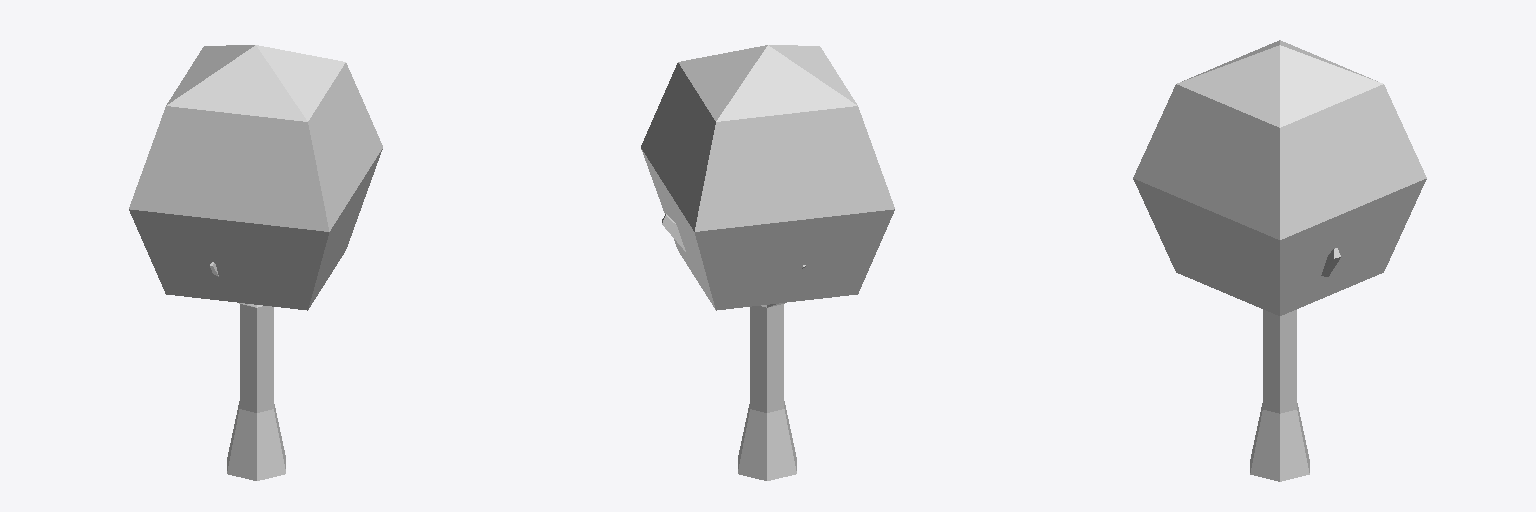
Rendered from tree_mapped.obj.
3 renders of one model, left to right at view 1: azimuth 30°, elevation 25°; view 2: azimuth 150°, elevation 25°; view 3: azimuth 270°, elevation 25°, orthographic.
Visible parts, largest first — view 1: mesh02, mesh01; view 2: mesh02, mesh01; view 3: mesh02, mesh01.
Boxes of the visible parts, x1,y1,x2,y2 form: mesh02: [129, 45, 382, 310]; mesh01: [210, 262, 285, 480]; mesh02: [641, 45, 894, 310]; mesh01: [662, 214, 805, 480]; mesh02: [1133, 40, 1426, 315]; mesh01: [1250, 248, 1340, 481].
Size of the model in its own units: 71.32 by 113 by 71.32.